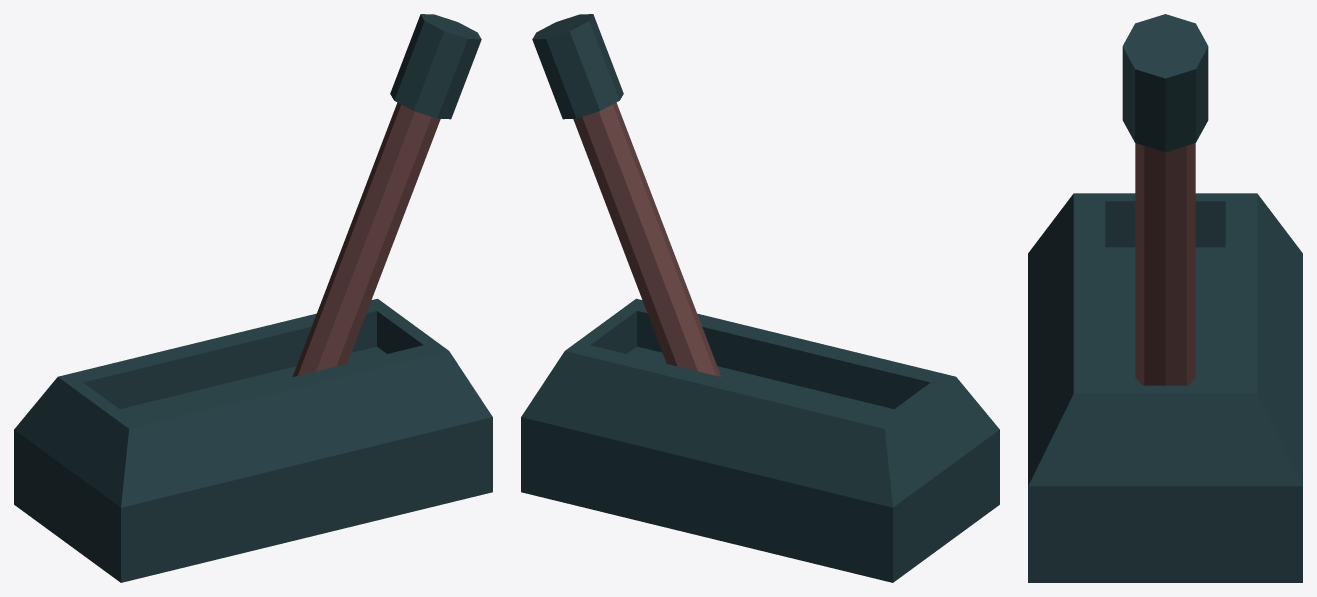
File: Palancacolor.fbx
The picture shows the model from 3 angles, left to right: view 1: azimuth 30°, elevation 25°; view 2: azimuth 150°, elevation 25°; view 3: azimuth 270°, elevation 25°; orthographic projection. The views are drawn at different scales.
Parts seen in each view (by area): view 1: Cube; view 2: Cube; view 3: Cube.
Boxes of the visible parts, box(x1,y1,x2,y2) form: Cube: box(14, 14, 492, 582); Cube: box(521, 14, 999, 582); Cube: box(1028, 14, 1302, 582).
Size of the model in its own units: 9.87 by 10.02 by 4.46.
